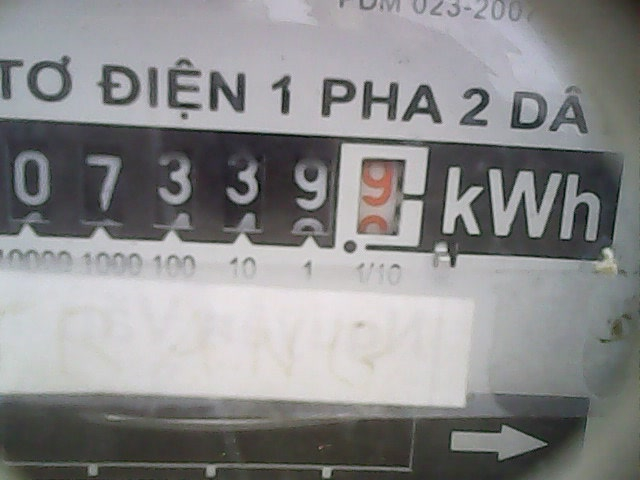phy_plate: (1, 117, 435, 256)
